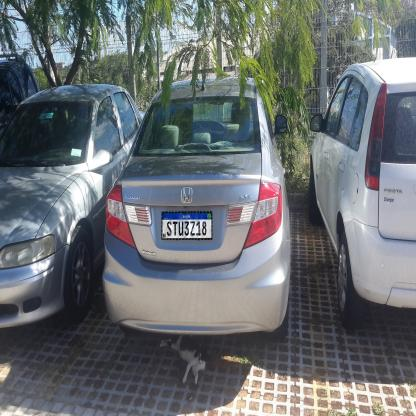PlacaM: (162, 211, 212, 240)
